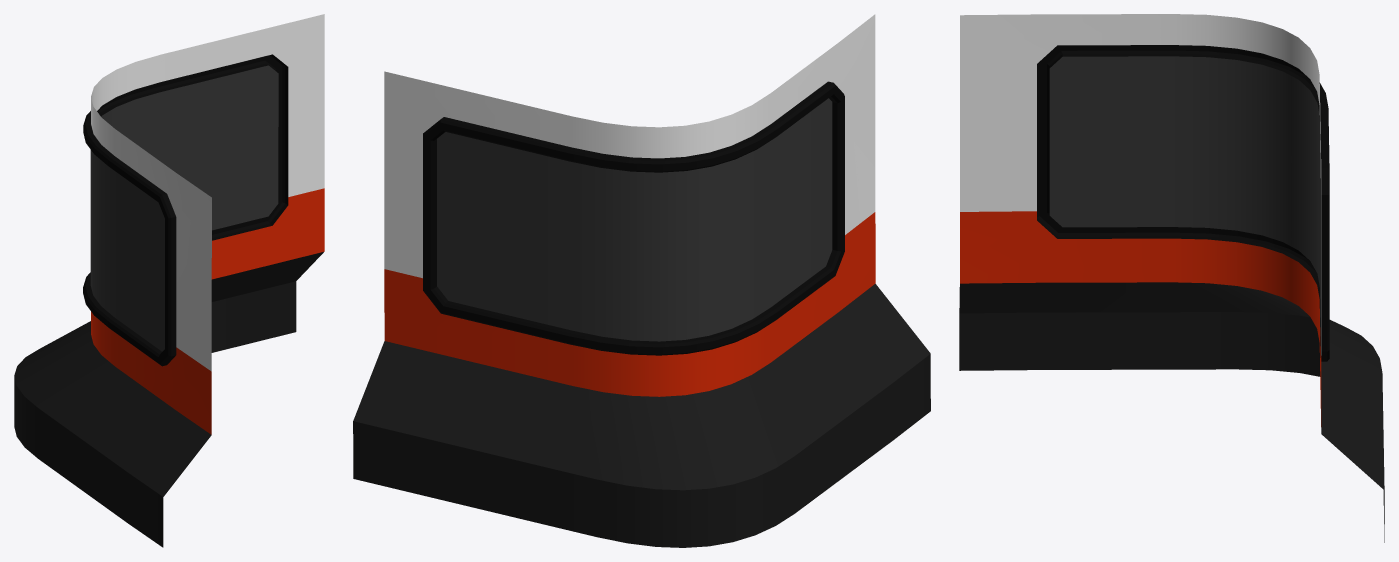
Rendered from S_assete_basement_wall_soft_outside_corner_4.fbx.
The picture shows the model from 3 angles, left to right: view 1: azimuth 30°, elevation 25°; view 2: azimuth 150°, elevation 25°; view 3: azimuth 270°, elevation 25°; orthographic projection. The views are drawn at different scales.
Parts seen in each view (by area): view 1: basement_wall_soft_outside_corner_4; view 2: basement_wall_soft_outside_corner_4; view 3: basement_wall_soft_outside_corner_4.
Part boxes in pixels (x1=…): basement_wall_soft_outside_corner_4: x1=14, y1=14, x2=324, y2=547; basement_wall_soft_outside_corner_4: x1=353, y1=14, x2=930, y2=547; basement_wall_soft_outside_corner_4: x1=959, y1=14, x2=1384, y2=542.
Bounding box in the file's own units: 200 × 200 × 202.
